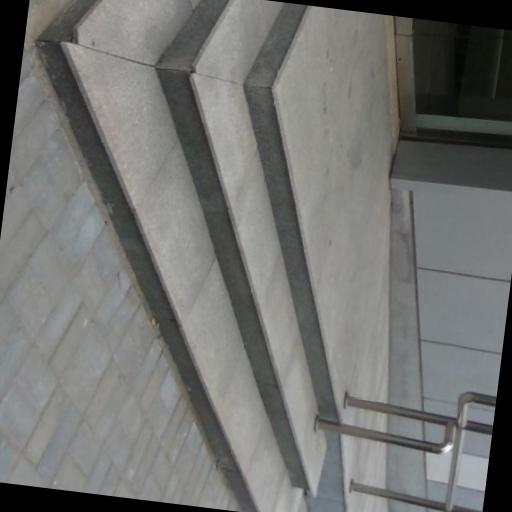stairs: (39, 0, 336, 511)
